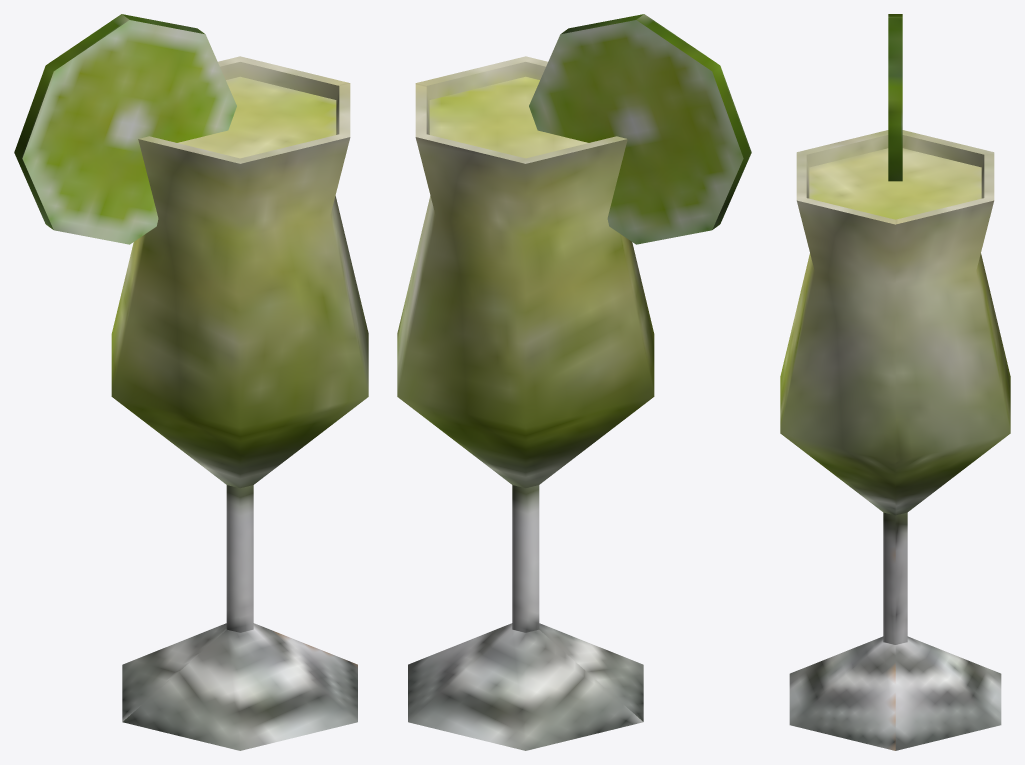
File: DrinkV8.fbx
3 views of the same model, side by side, from view 1: azimuth 30°, elevation 25°; view 2: azimuth 150°, elevation 25°; view 3: azimuth 270°, elevation 25° (orthographic). The views are drawn at different scales.
Parts seen in each view (by area): view 1: Cocktails.009; view 2: Cocktails.009; view 3: Cocktails.009.
Part boxes in pixels (<box>): Cocktails.009: <box>14,14,368,750</box>; Cocktails.009: <box>397,14,751,750</box>; Cocktails.009: <box>780,14,1010,750</box>.
Size of the model in its own units: 0.1755 by 0.337 by 0.1115.
